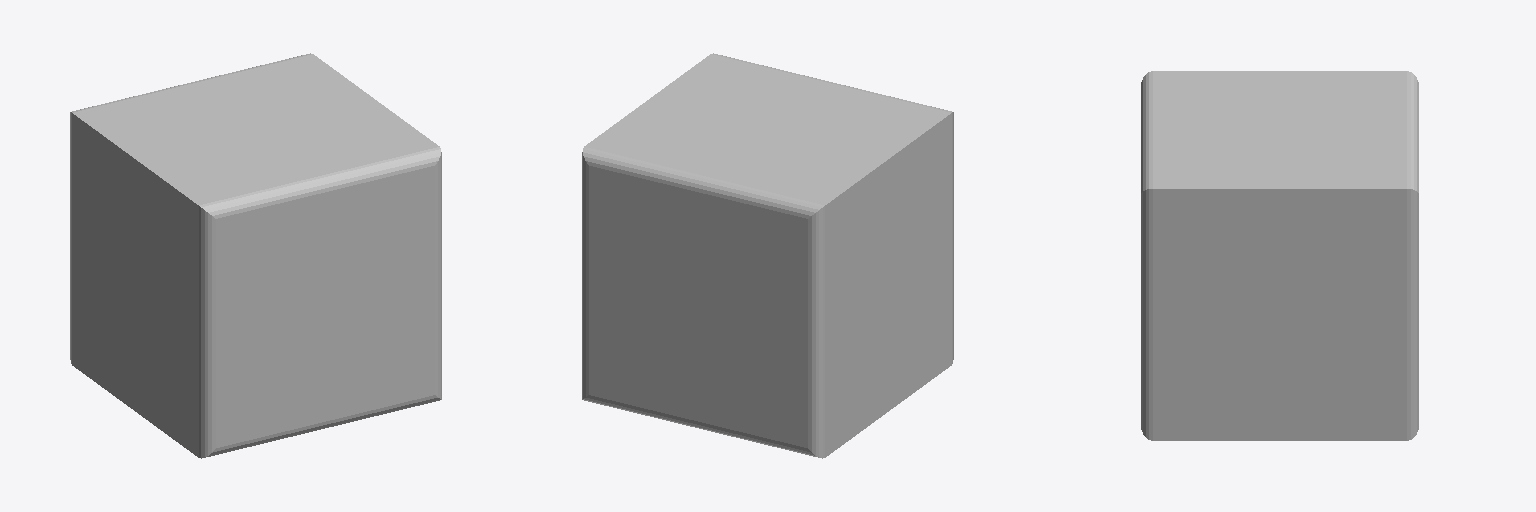
3 views of the same model, side by side, from view 1: azimuth 30°, elevation 25°; view 2: azimuth 150°, elevation 25°; view 3: azimuth 270°, elevation 25° (orthographic).
Visible parts, largest first — view 1: rect1457_rect1457.003; view 2: rect1457_rect1457.003; view 3: rect1457_rect1457.003.
Part boxes in pixels (x1,y1,x2,y2): rect1457_rect1457.003: (70, 53, 441, 458); rect1457_rect1457.003: (582, 53, 953, 458); rect1457_rect1457.003: (1141, 71, 1418, 440).
Size of the model in its own units: 0.11 by 0.11 by 0.11.